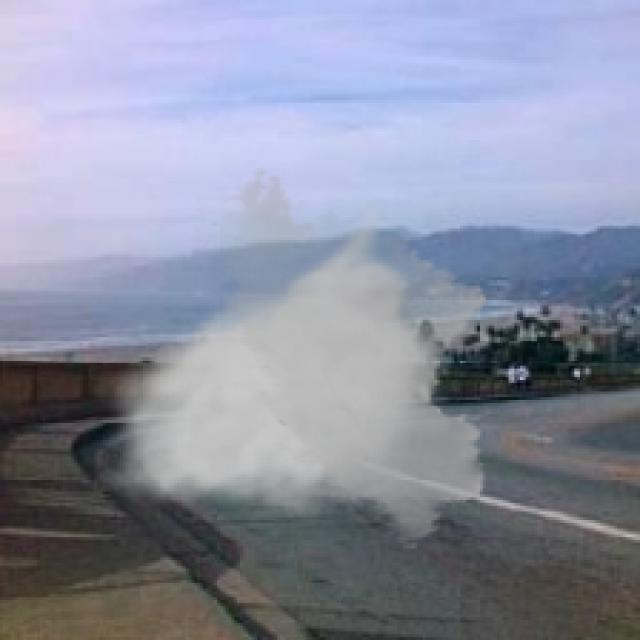Smoke: (94, 166, 497, 552)
